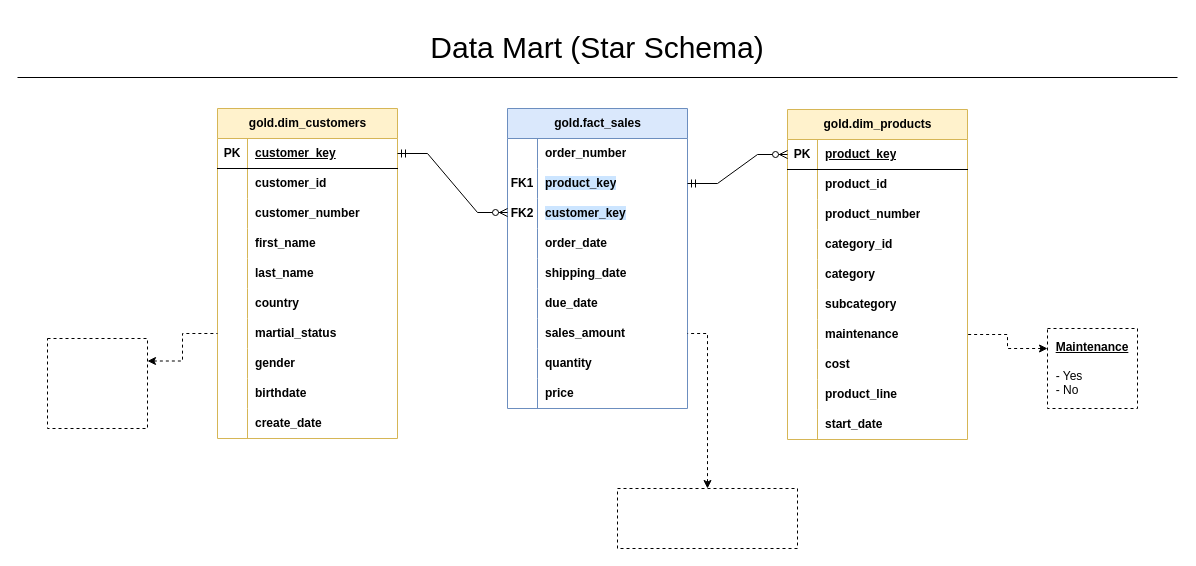
The diagram is 1196 pixels wide and 566 high, and some of its shapes have lost their labels. The shapes that lost their labels are listed below. From the top down, each one's centre as x and y in pixels, then its label:
At point 97,383: "Martial Statis - Married - Single".
At point 707,518: "Sales Calculation Sales = Quantity * Price".
